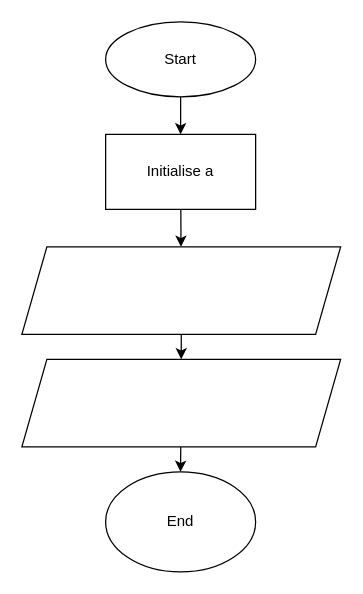
Some shapes in this 363 by 594 pixel diagram are drawn without their labels. The shapes that lost their labels are listed below. From the top down, each one's centre as x and y in pixels, then its label:
At point 181,290: "Print Right shift".
At point 181,402: "Print Left Shift".
